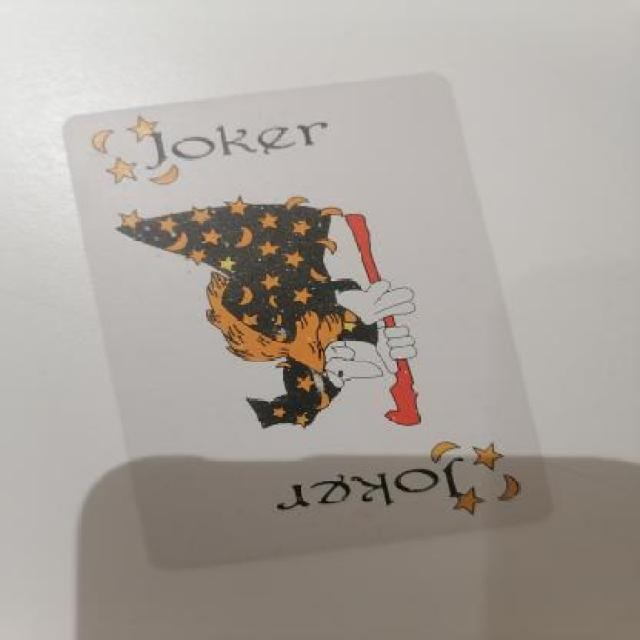BLACK JOKER: (232, 418, 538, 545), (87, 80, 356, 197)
